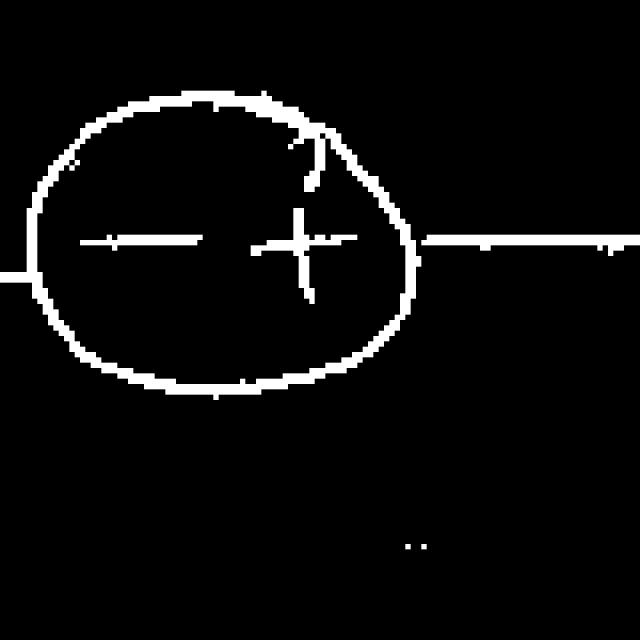voltage_source: (18, 67, 431, 419)
